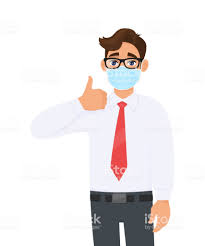masked: (93, 29, 152, 91)
